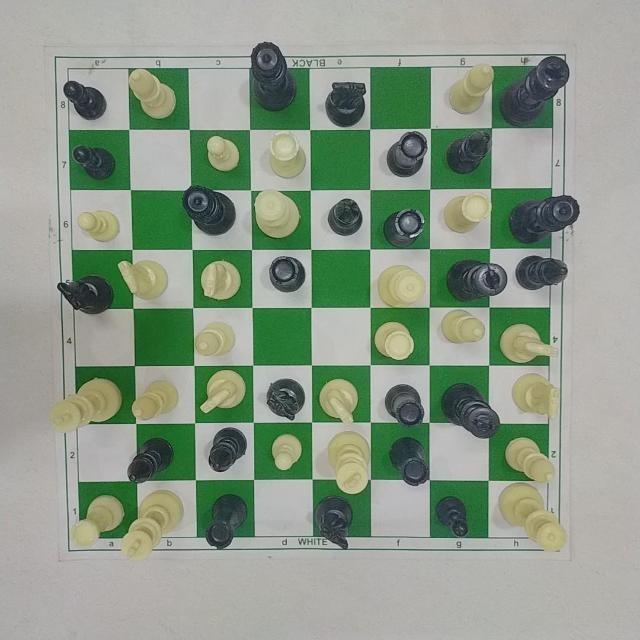black-bishop: (201, 423, 251, 479), (122, 433, 176, 483), (444, 127, 492, 177), (516, 255, 575, 295), (325, 195, 364, 243)
black-king: (497, 54, 572, 130), (439, 381, 503, 445), (443, 254, 507, 306)
black-knight: (54, 269, 112, 325), (321, 70, 373, 131), (311, 496, 359, 552), (262, 374, 307, 424)
black-pawn: (52, 73, 114, 119), (72, 137, 120, 185), (432, 490, 473, 540)
black-queen: (503, 188, 586, 246), (243, 34, 301, 116), (181, 180, 242, 239)
black-rook: (201, 488, 249, 549), (386, 123, 432, 185), (387, 434, 431, 489), (385, 377, 429, 431), (381, 205, 431, 251), (267, 254, 310, 296)
white-bishop: (444, 58, 496, 118), (503, 436, 559, 490), (128, 69, 184, 122), (127, 375, 182, 425), (437, 304, 488, 348), (191, 319, 239, 361)
white-king: (46, 369, 126, 439), (118, 486, 186, 560), (326, 428, 376, 496)
white-knight: (498, 317, 562, 366), (115, 256, 171, 304), (509, 372, 565, 419), (195, 365, 245, 417), (196, 256, 245, 306), (315, 373, 360, 425)
white-pawn: (74, 203, 120, 244), (203, 132, 247, 174), (268, 431, 306, 473)
white-queen: (495, 481, 569, 552), (252, 187, 304, 239), (375, 261, 431, 308)
white-rook: (65, 492, 126, 550), (264, 129, 308, 181), (441, 192, 491, 236), (374, 316, 416, 362)
